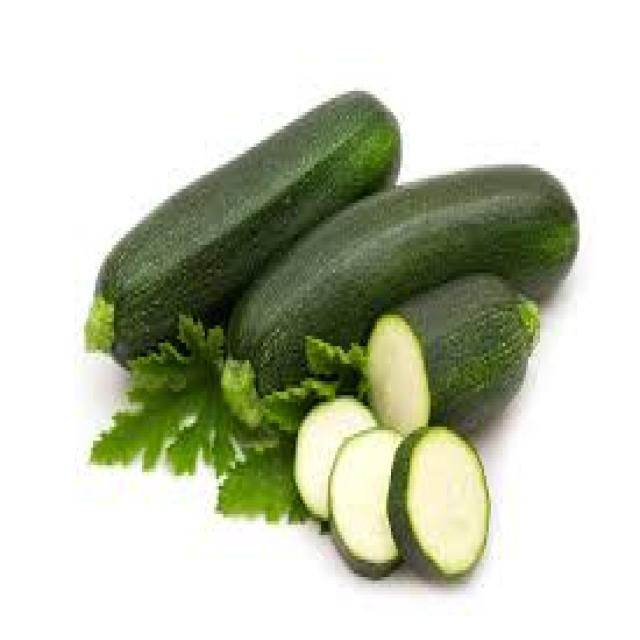organic waste: (79, 88, 398, 368), (224, 161, 577, 395), (361, 266, 540, 434), (86, 304, 237, 476), (386, 423, 486, 577), (326, 423, 410, 581), (214, 423, 326, 532), (288, 395, 379, 521), (260, 332, 360, 427), (216, 342, 256, 427)
